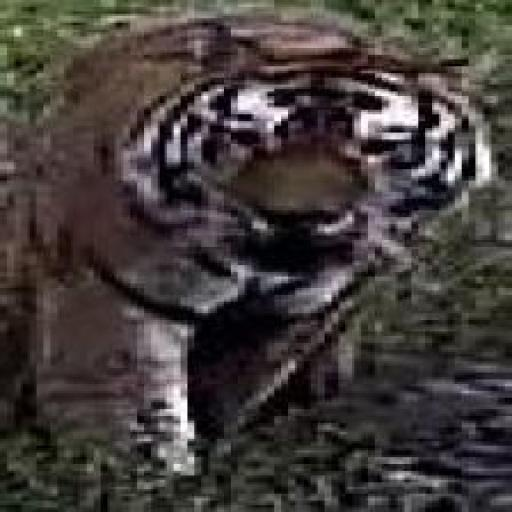Tiger: (18, 25, 508, 476)
